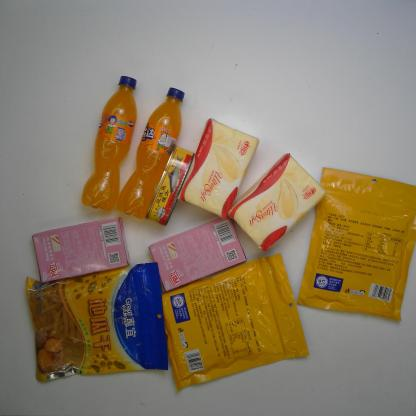Canned Food: (144, 143, 196, 228)
Dessert: (147, 216, 248, 293), (31, 215, 131, 284)
Dried Fruit: (162, 251, 311, 394), (294, 166, 416, 323), (24, 260, 169, 385)
Drink: (116, 85, 186, 220), (81, 75, 139, 213)
Tissue: (227, 152, 327, 254), (176, 117, 260, 221)
